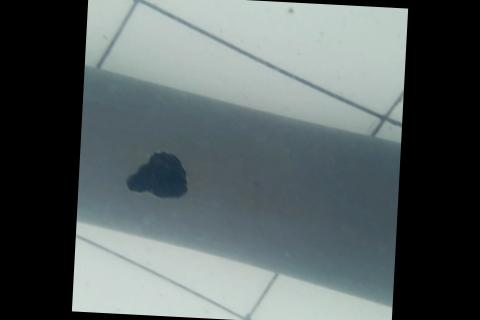kebocoran: (122, 148, 194, 200)
